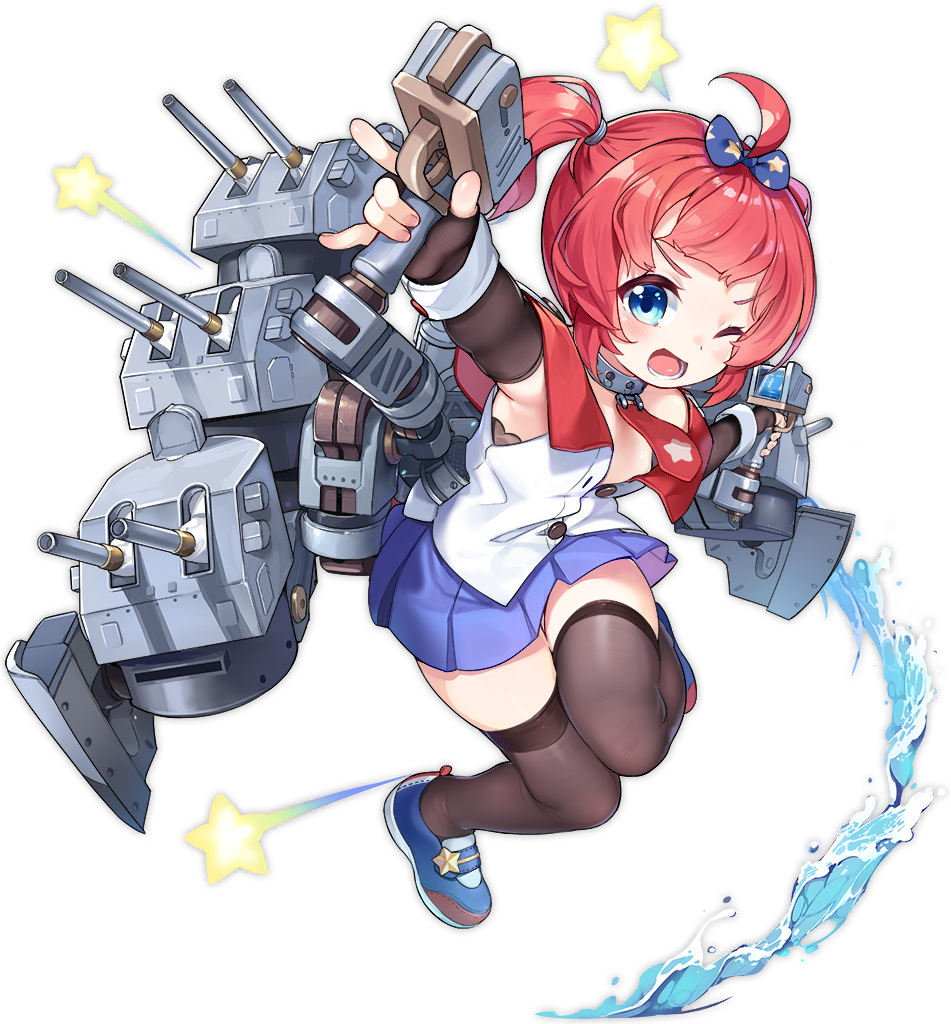person: (9, 2, 941, 993)
